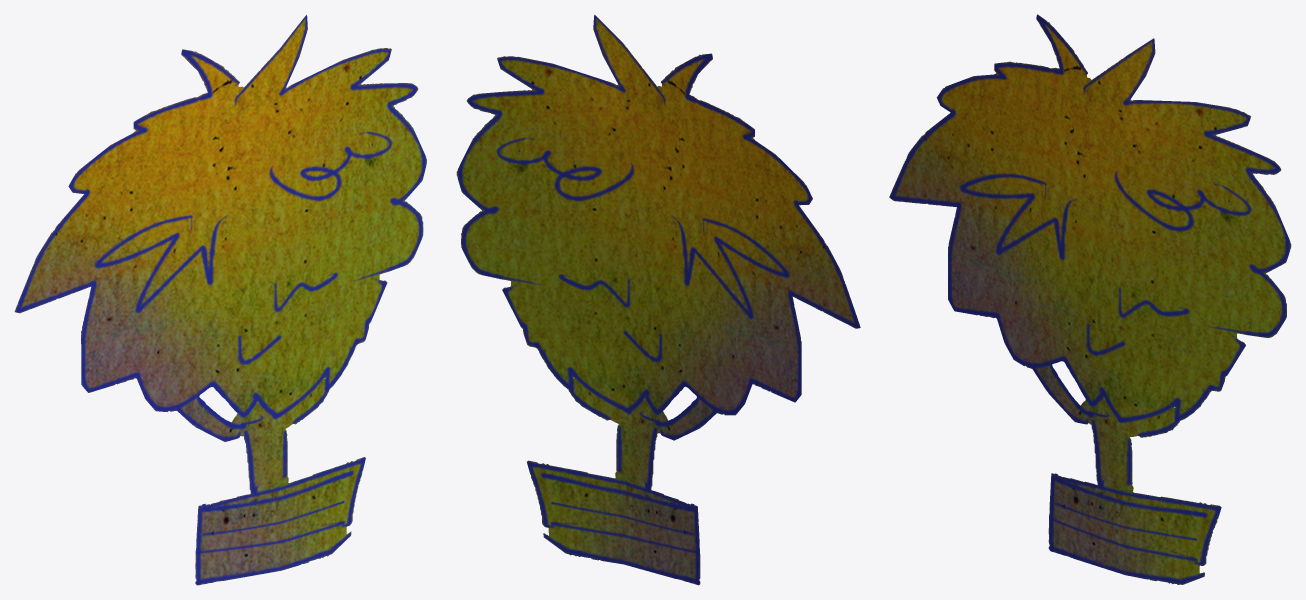
The model's file is 02_plant_03.fbx.
The picture shows the model from 3 angles, left to right: view 1: azimuth 30°, elevation 25°; view 2: azimuth 150°, elevation 25°; view 3: azimuth 330°, elevation 25°; orthographic projection.
Parts seen in each view (by area): view 1: 02_樹_03; view 2: 02_樹_03; view 3: 02_樹_03.
Part boxes in pixels (bbox=[...]): 02_樹_03: bbox=[14, 14, 426, 585]; 02_樹_03: bbox=[456, 14, 860, 585]; 02_樹_03: bbox=[889, 14, 1291, 584].
Size of the model in its own units: 242 by 310 by 14.46.
Materials: 1 (1 with a texture image).
